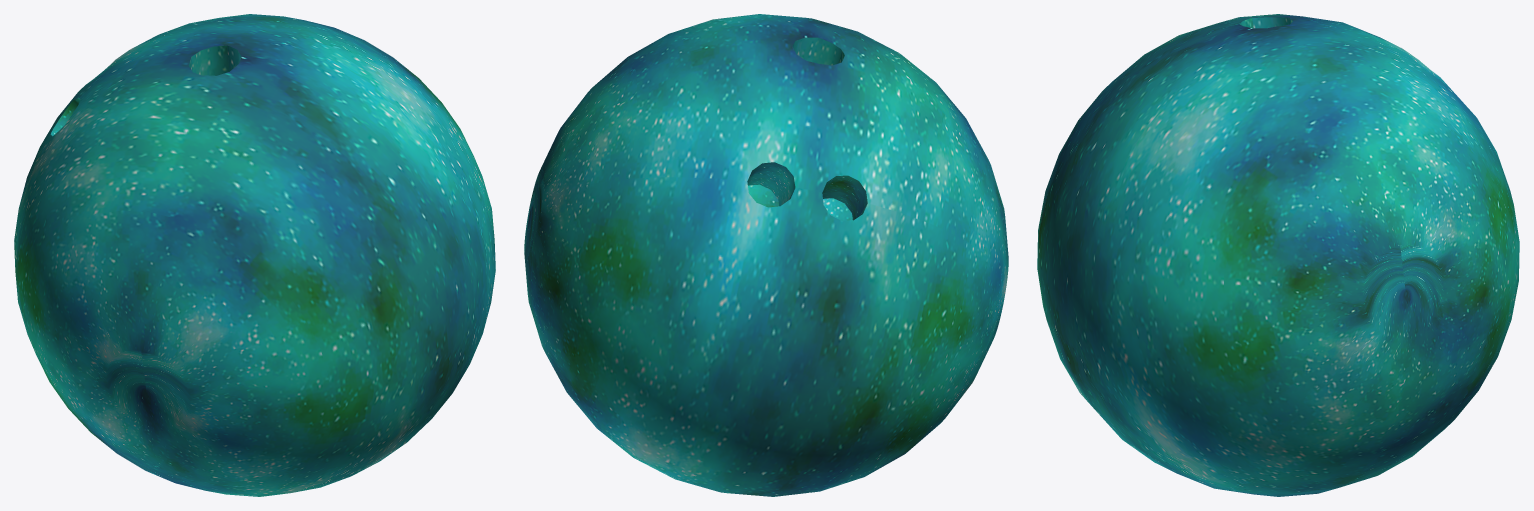
File: BowlingBall_Green.fbx
The picture shows the model from 3 angles, left to right: view 1: azimuth 30°, elevation 25°; view 2: azimuth 150°, elevation 25°; view 3: azimuth 270°, elevation 25°; orthographic projection.
Parts seen in each view (by area): view 1: BowlingBall_Green; view 2: BowlingBall_Green; view 3: BowlingBall_Green.
Part boxes in pixels (box(x1,y1,x2,y2)): BowlingBall_Green: box(14, 14, 495, 496); BowlingBall_Green: box(524, 14, 1008, 496); BowlingBall_Green: box(1037, 14, 1519, 496).
Bounding box in the file's own units: 0.2077 × 0.2073 × 0.2072.
